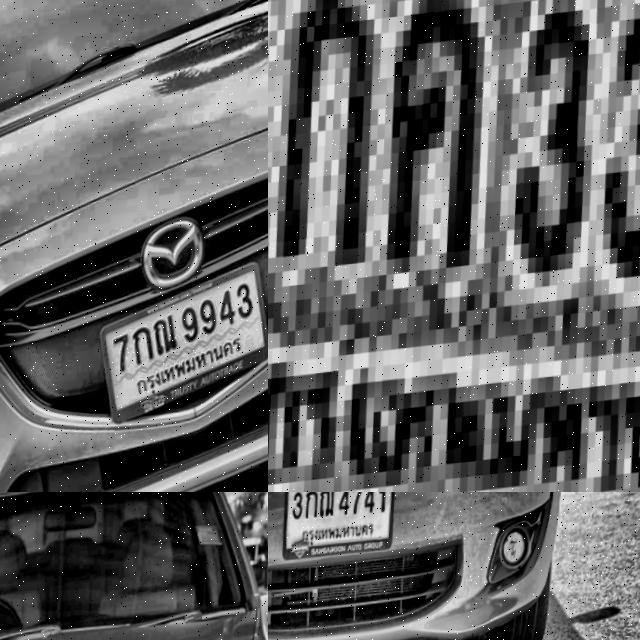license-plate: (268, 0, 640, 492), (86, 262, 268, 432), (282, 492, 404, 568)
